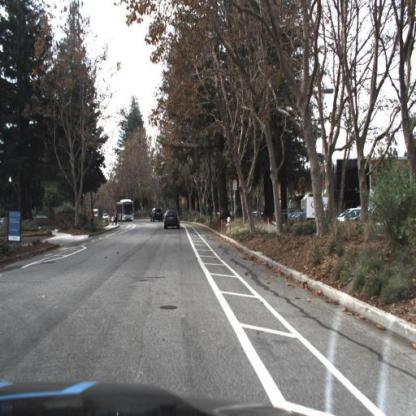car: (338, 207, 366, 223), (164, 211, 181, 231), (150, 208, 163, 225), (152, 209, 164, 222), (103, 213, 110, 220)
pedestrian: (90, 208, 96, 231), (115, 212, 119, 227)
truck: (117, 201, 135, 221)
